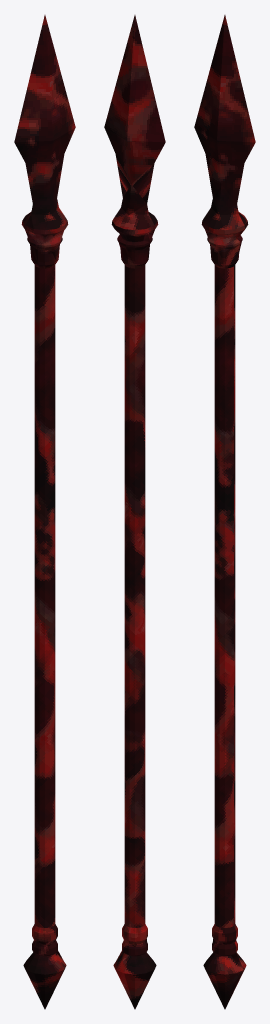
The model's file is item_spear_spartan_blood.glb.
The picture shows the model from 3 angles, left to right: view 1: azimuth 30°, elevation 25°; view 2: azimuth 150°, elevation 25°; view 3: azimuth 330°, elevation 25°; orthographic projection.
Parts seen in each view (by area): view 1: default; view 2: default; view 3: default.
Part boxes in pixels (x1,y1,x2,y2): default: (14,15,75,1009); default: (104,15,165,1009); default: (194,15,255,1009).
Bounding box in the file's own units: 0.1473 × 2.28 × 0.0965.
Materials: 1 (1 with a texture image).
